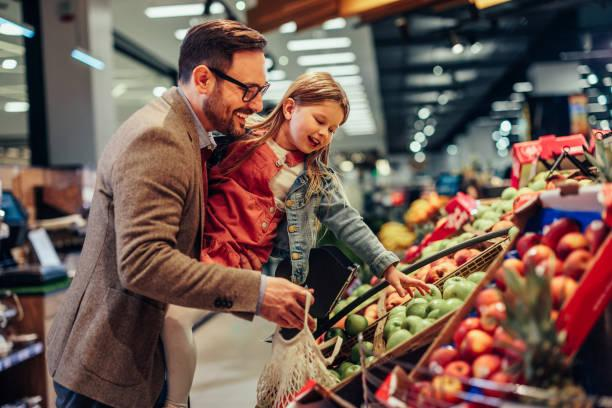Person: (46, 20, 305, 406), (201, 72, 424, 291)
article: (555, 232, 587, 259), (387, 329, 411, 350), (407, 297, 426, 316)
bag: (258, 314, 337, 407)
